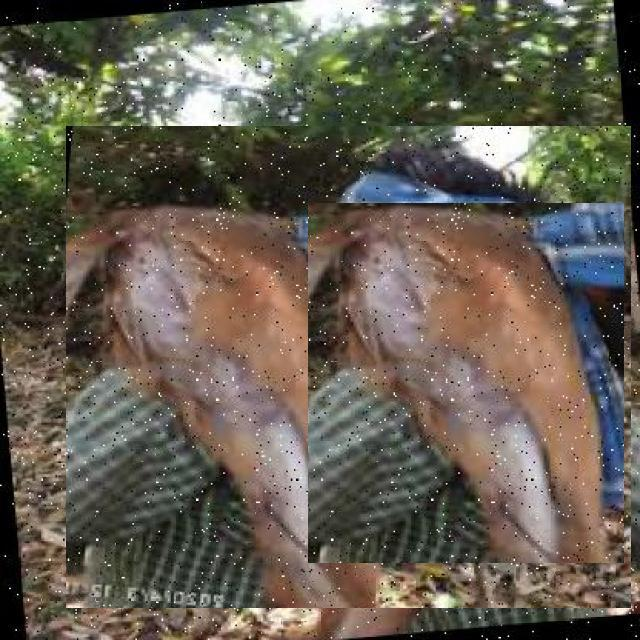p_annotate: (308, 203, 624, 563)
poacher: (66, 126, 631, 608)
